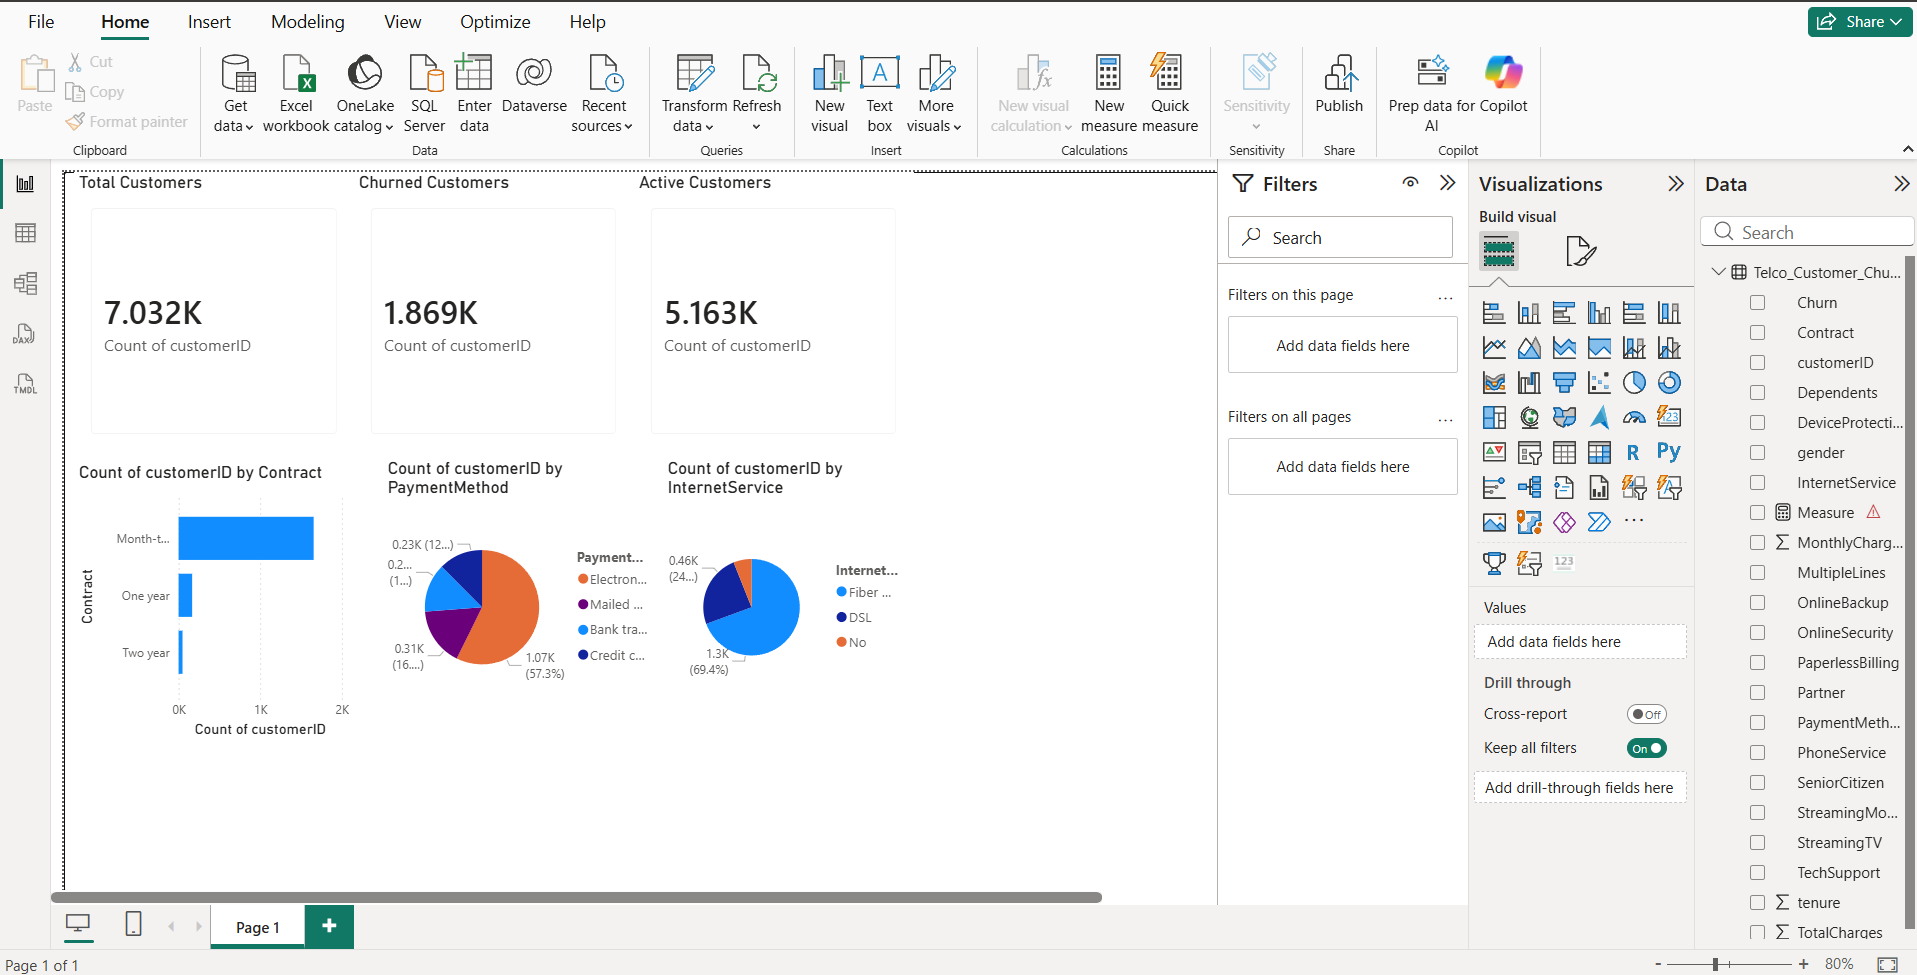

What the dashboard file says about the page in this screenshot:
{"tool":"powerbi","page":{"name":"Page 1","canvas":[1280,720],"ordinal":0},"visuals":[{"type":"cardVisual","title":"Total Customers","fields":{"Data":["CountNonNull(Telco_Customer_Churn_Dataset  (1).customerID)"]},"box":[10,0,280,280],"z":0},{"type":"cardVisual","title":"Active Customers","fields":{"Data":["CountNonNull(Telco_Customer_Churn_Dataset  (1).customerID)"]},"box":[305,0,280,280],"z":2000},{"type":"clusteredBarChart","fields":{"Category":["Telco_Customer_Churn_Dataset  (1).Contract"],"Y":["CountNonNull(Telco_Customer_Churn_Dataset  (1).customerID)"]},"box":[25.6,316.7,280,280],"z":3000},{"type":"pieChart","fields":{"Category":["Telco_Customer_Churn_Dataset  (1).PaymentMethod"],"Y":["CountNonNull(Telco_Customer_Churn_Dataset  (1).customerID)"]},"box":[621.1,311.1,280,260],"z":4000},{"type":"pieChart","fields":{"Category":["Telco_Customer_Churn_Dataset  (1).InternetService"],"Y":["CountNonNull(Telco_Customer_Churn_Dataset  (1).customerID)"]},"box":[320,326.7,250,260],"z":5000},{"type":"cardVisual","title":"Churn Rate","fields":{"Data":["Telco_Customer_Churn_Dataset  (1).Churn Rate"]},"box":[610,0,280,280],"z":6000},{"type":"slicer","fields":{"Values":["Telco_Customer_Churn_Dataset  (1).gender","Telco_Customer_Churn_Dataset  (1).Contract","Telco_Customer_Churn_Dataset  (1).InternetService"]},"box":[915,310,280,260],"z":7000},{"type":"textbox","box":[951,570,280,150],"z":8000},{"type":"textbox","box":[100,100,300,300],"z":9000}]}

Visuals, with their boxes on the page's 1280x720 design canvas (x1, y1, x2, y2). These are canvas units, not pixel positions in the 1917x975 screenshot, which may show the page scaled, cropped or inside an application window:
"Total Customers" cardVisual: detection(10, 0, 290, 280)
"Active Customers" cardVisual: detection(305, 0, 585, 280)
clusteredBarChart - Telco_Customer_Churn_Dataset  (1).Contract x CountNonNull(Telco_Customer_Churn_Dataset  (1).customerID): detection(26, 317, 306, 597)
pieChart - Telco_Customer_Churn_Dataset  (1).PaymentMethod x CountNonNull(Telco_Customer_Churn_Dataset  (1).customerID): detection(621, 311, 901, 571)
pieChart - Telco_Customer_Churn_Dataset  (1).InternetService x CountNonNull(Telco_Customer_Churn_Dataset  (1).customerID): detection(320, 327, 570, 587)
"Churn Rate" cardVisual: detection(610, 0, 890, 280)
slicer - Telco_Customer_Churn_Dataset  (1).gender x Telco_Customer_Churn_Dataset  (1).Contract: detection(915, 310, 1195, 570)
textbox: detection(951, 570, 1231, 720)
textbox: detection(100, 100, 400, 400)
